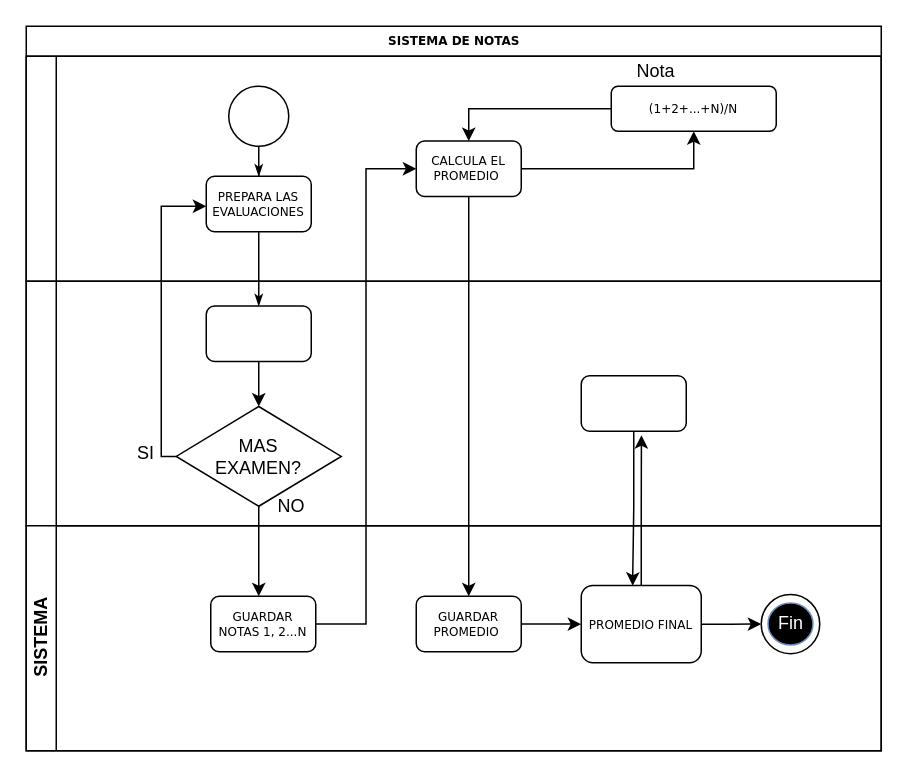
The diagram is 908 pixels wide and 777 high, and some of its shapes have lost their labels. Each missing label, with the box of its shape:
ALUMNO: (25, 280, 881, 526)
Inicio: (227, 85, 289, 146)
PROFESOR: (25, 55, 881, 281)
REVISA LAS NOTAS: (580, 374, 686, 431)
TOMA LAS EVALUACION: (205, 304, 311, 362)
